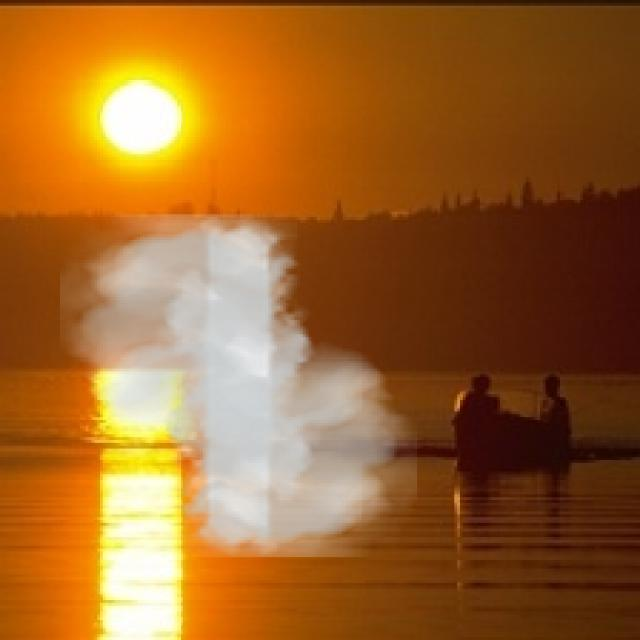smoke: (60, 214, 417, 557)
